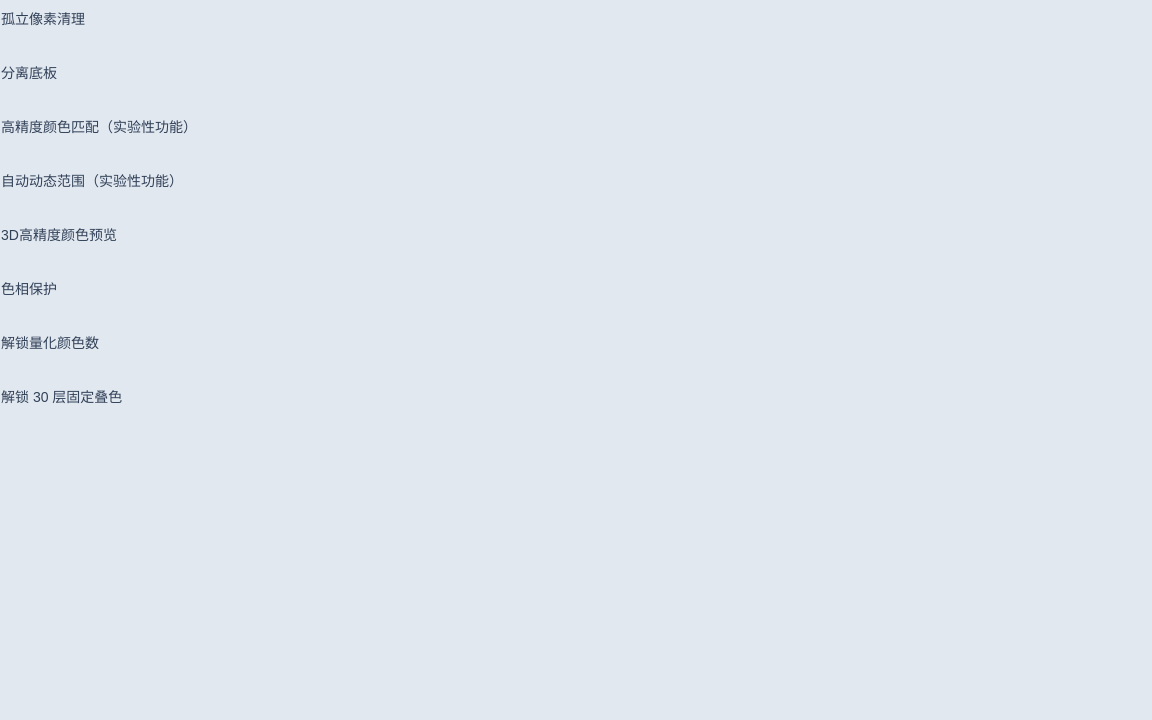
Test: AdvancedSettings — 30-layer unlock warning › asks before unlocking and unlocks only on confirm
Step 1. Click the switch labelled "解锁 30 层固定叠色" → (62, 397), box [1, 387, 122, 407]
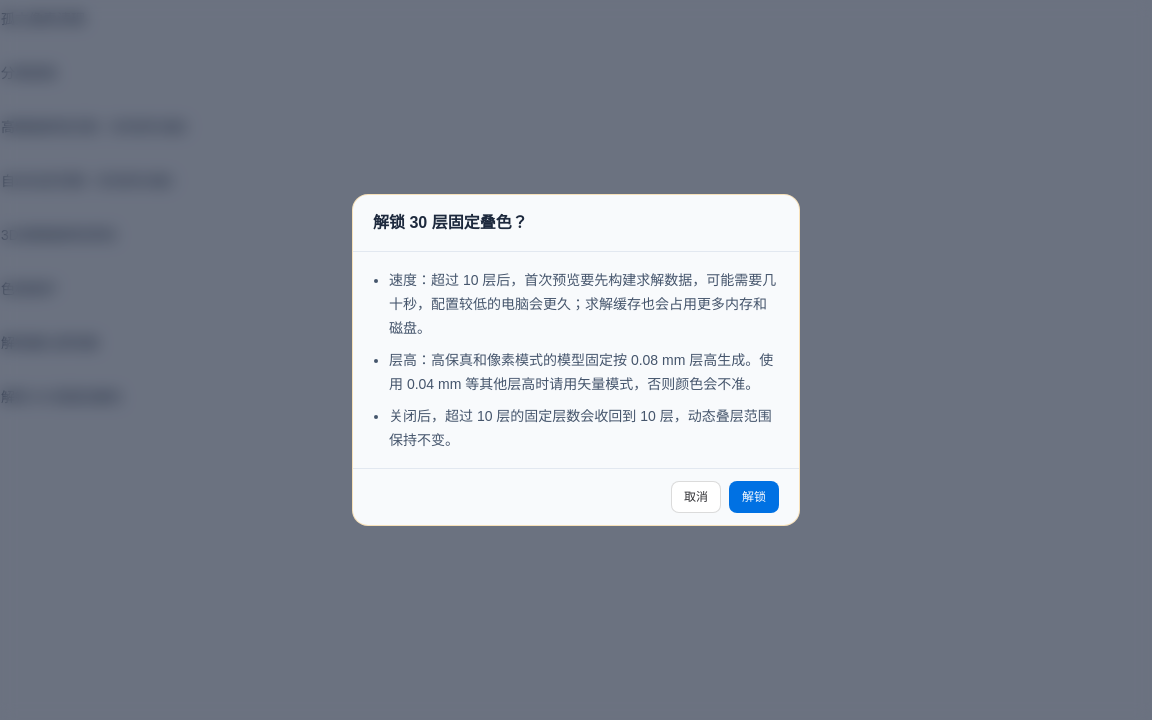
Expected: the dialog with test id "material-layer-unlock-dialog" is shown, [352, 194, 800, 526]
Expected: the list item "高保真和像素模式的模型固定按 0.08 mm" is shown, [389, 352, 773, 392]
Step 2. Click the button "解锁" → (754, 497), box [729, 481, 779, 513]
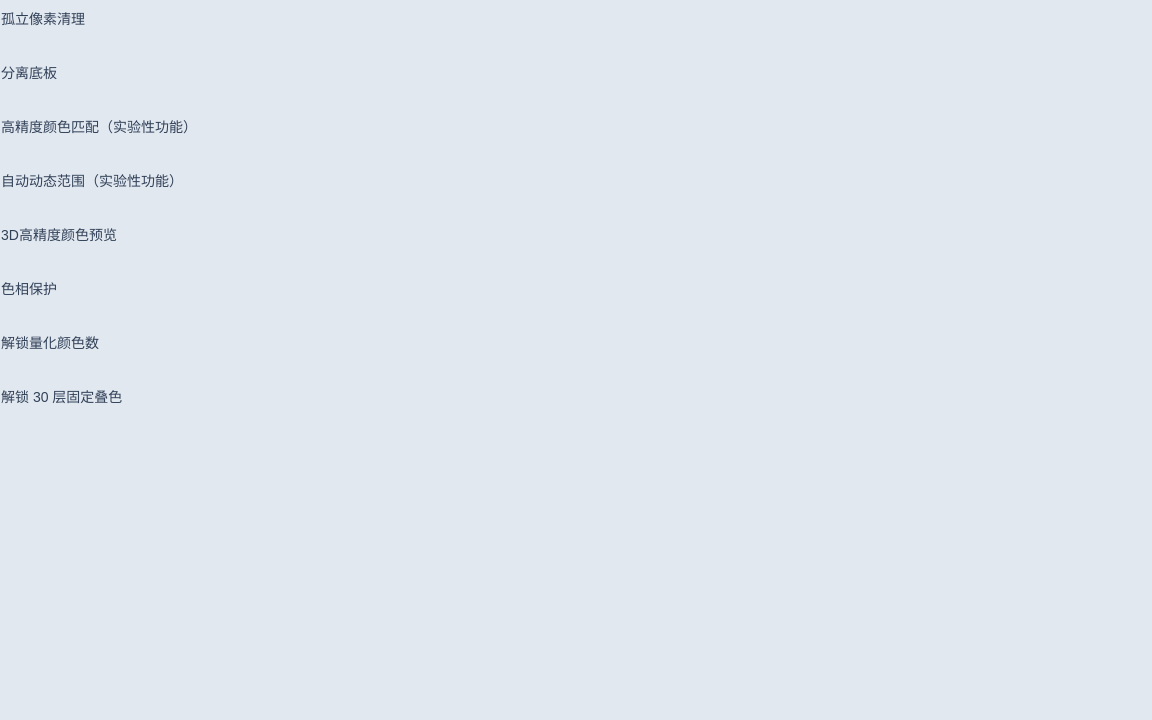
Expected: the dialog with test id "material-layer-unlock-dialog" is gone
